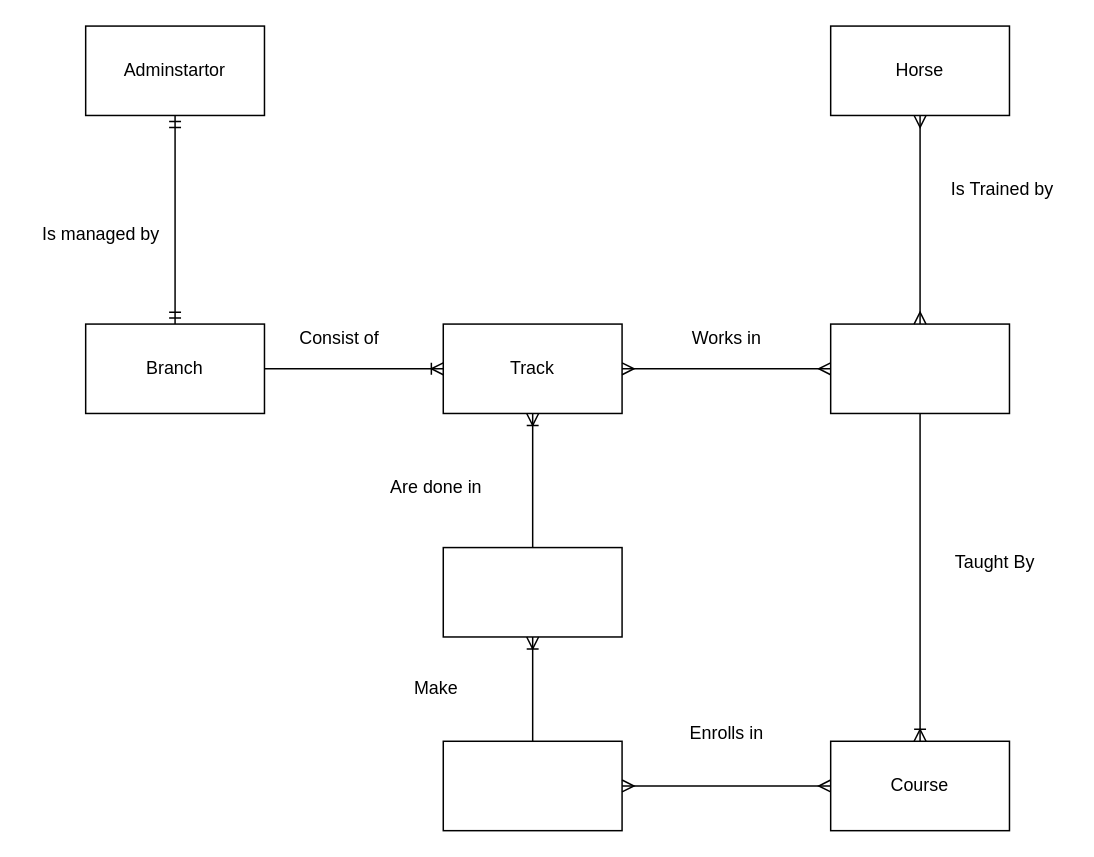
Some shapes in this 1094 by 857 pixel diagram are drawn without their labels. Each missing label, with the centre of its shape:
Lap Times: point (532, 591)
Member: point (532, 785)
Trainer: point (919, 368)
